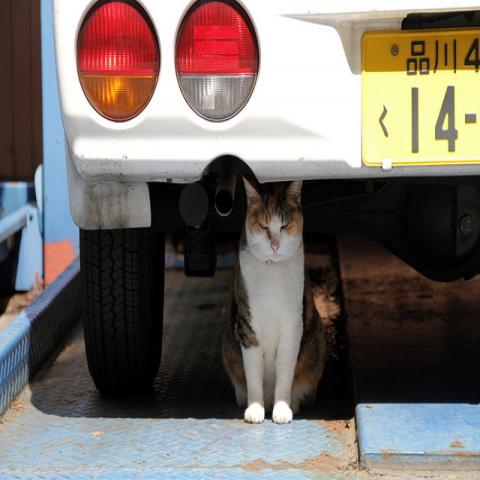car: (52, 0, 479, 400)
